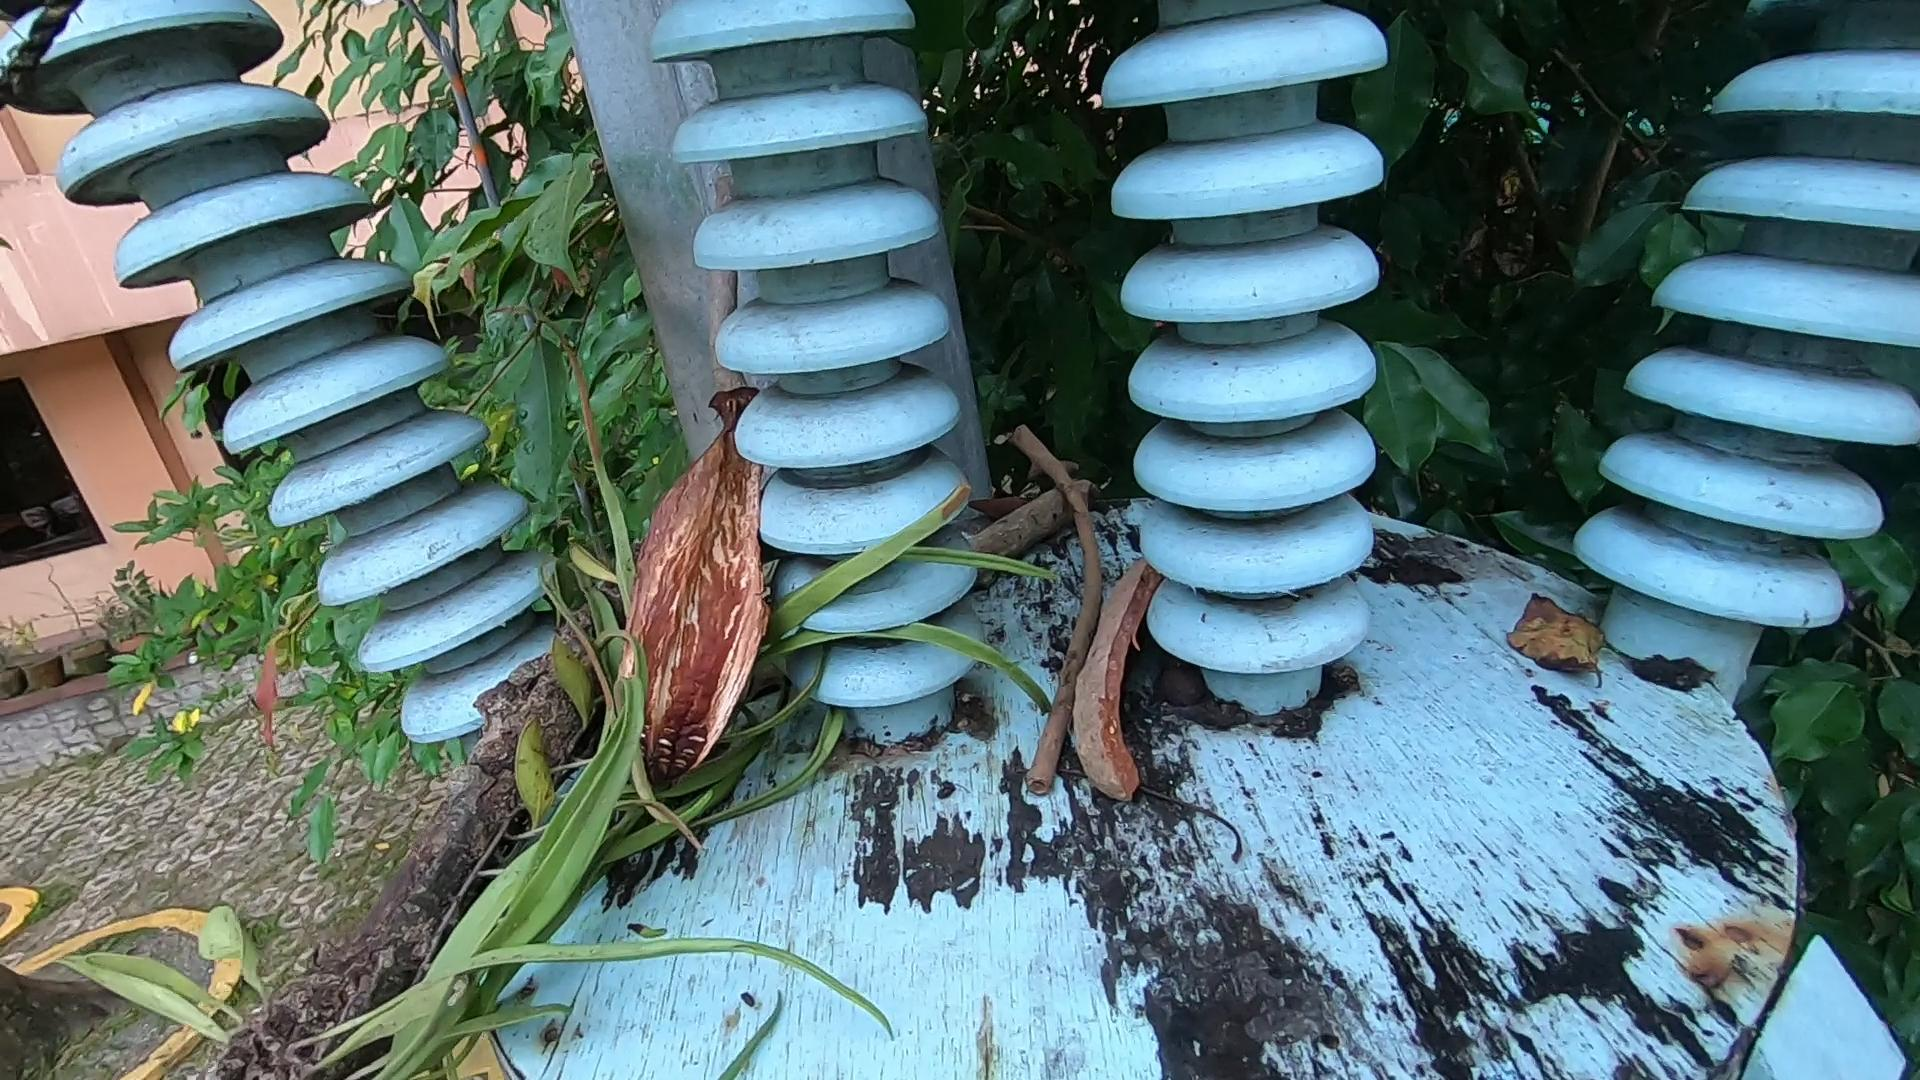branch with leaves: (53, 348, 1050, 1080)
leaf: (1516, 578, 1601, 688)
mahogany fruit: (622, 357, 785, 793), (1065, 549, 1183, 847)
tree branch: (1007, 405, 1095, 800), (967, 459, 1091, 556)
